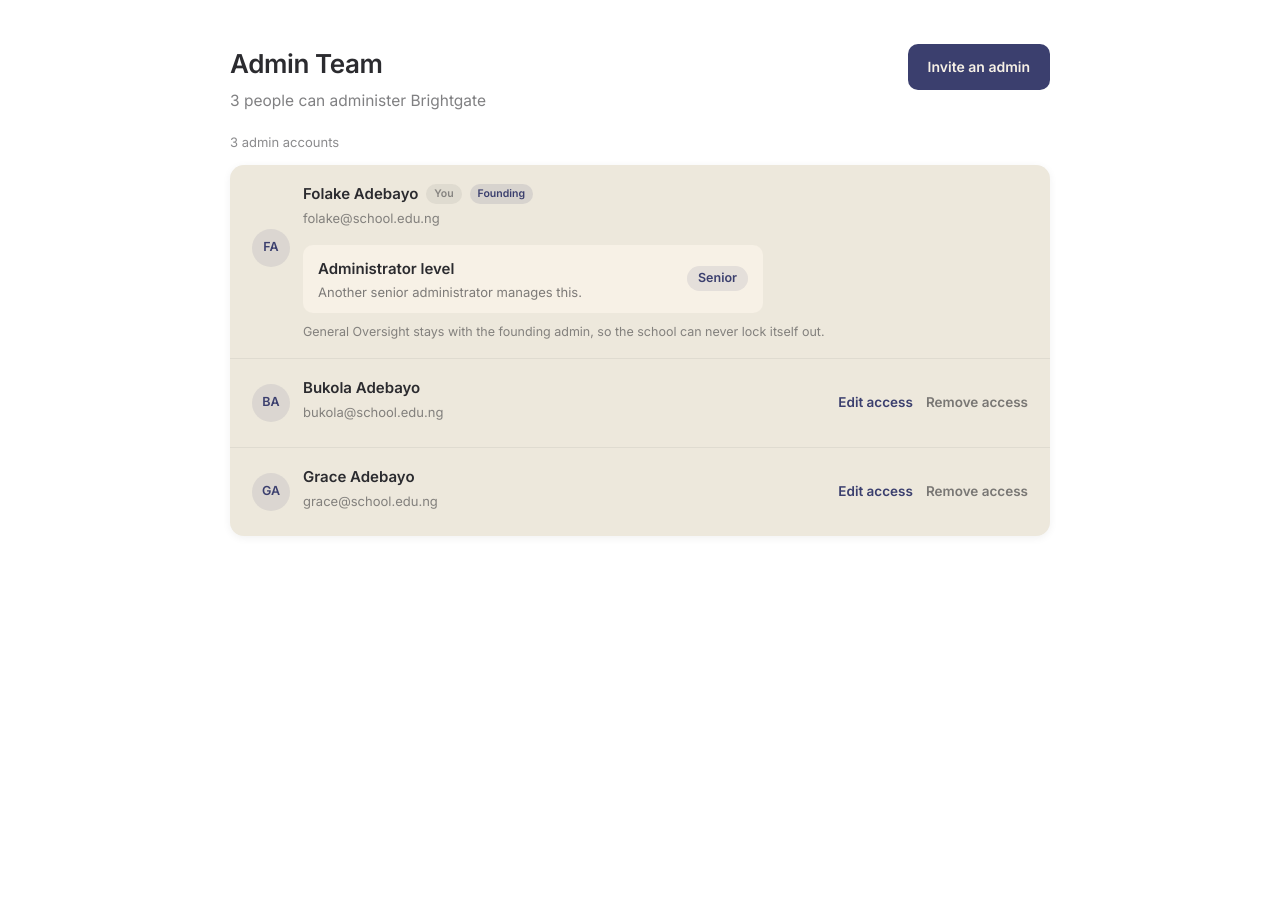
Test case: on someone else's record › meets the last senior calmly, and changes nothing
Click the button "Edit access" in the row of "grace@school.edu.ng" at (876, 492), box x1=838 y1=482 x2=913 y2=502
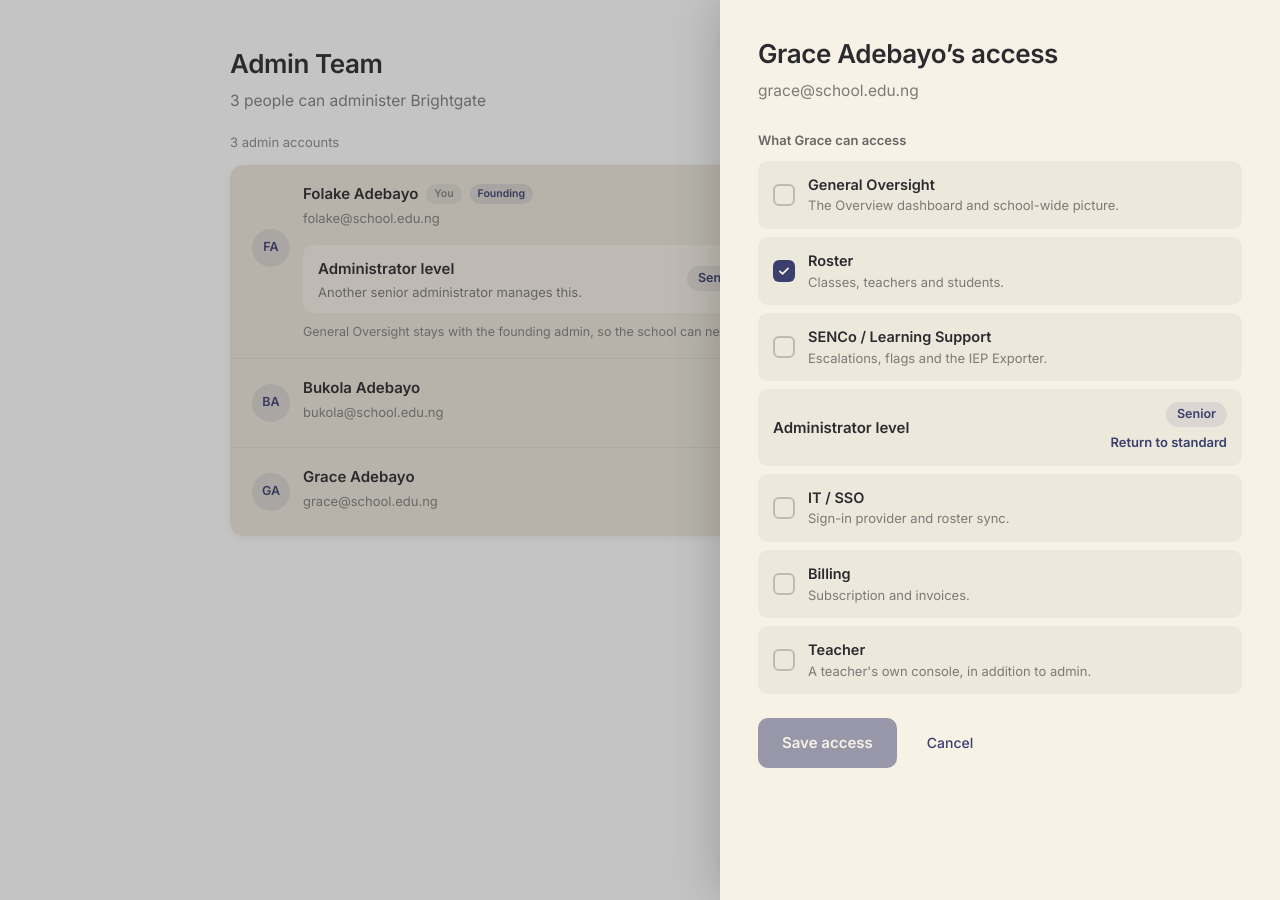
Click the button "Return to standard" at (1169, 443), box x1=1110 y1=433 x2=1227 y2=452
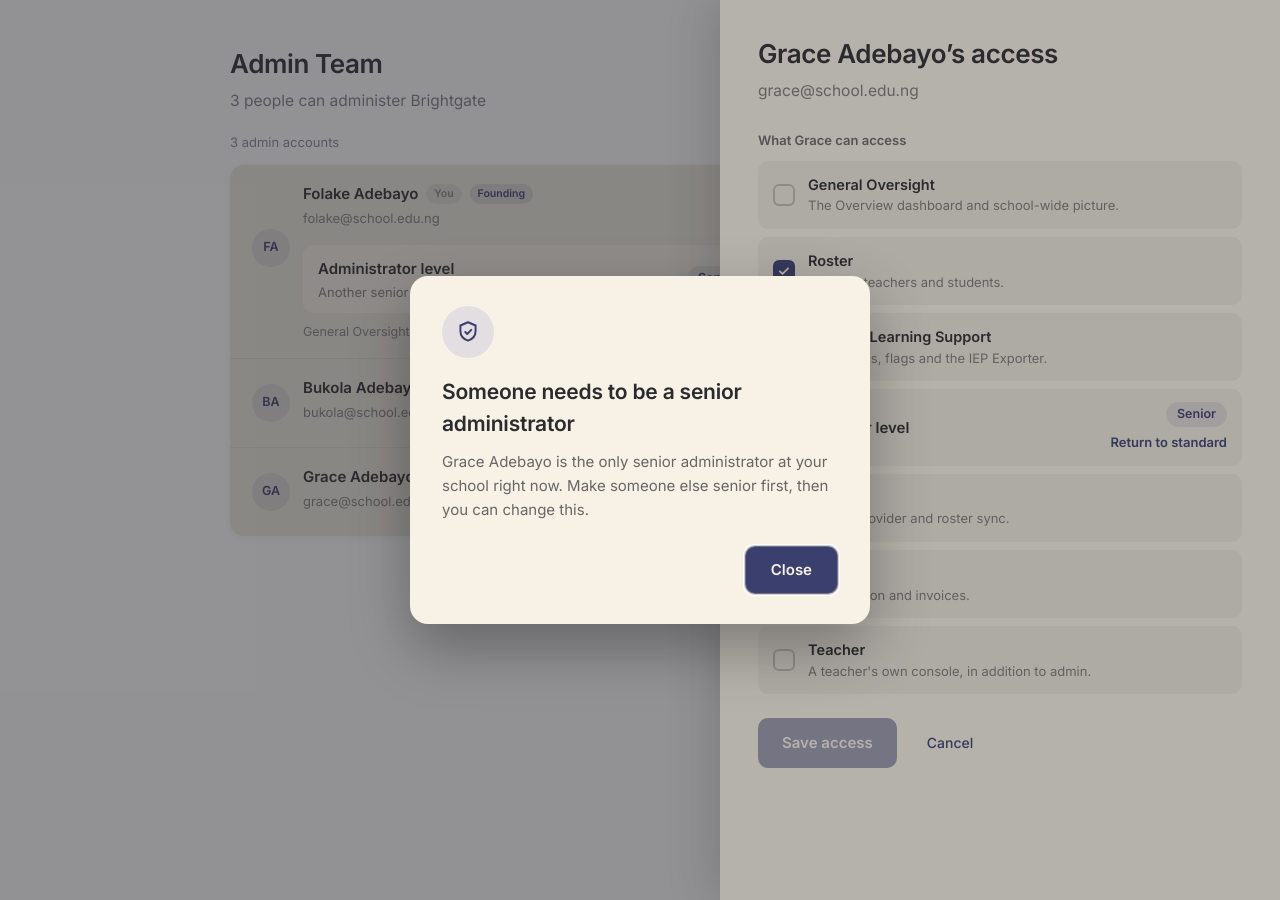
expect the dialog "Someone needs to be a senior administrator" shows "Grace Adebayo is the only senior administrator at your school right now. Make someone else senior first, then you can change this.": met, box x1=442 y1=452 x2=828 y2=519
Click the button "Close" at (791, 570), box x1=745 y1=546 x2=838 y2=594
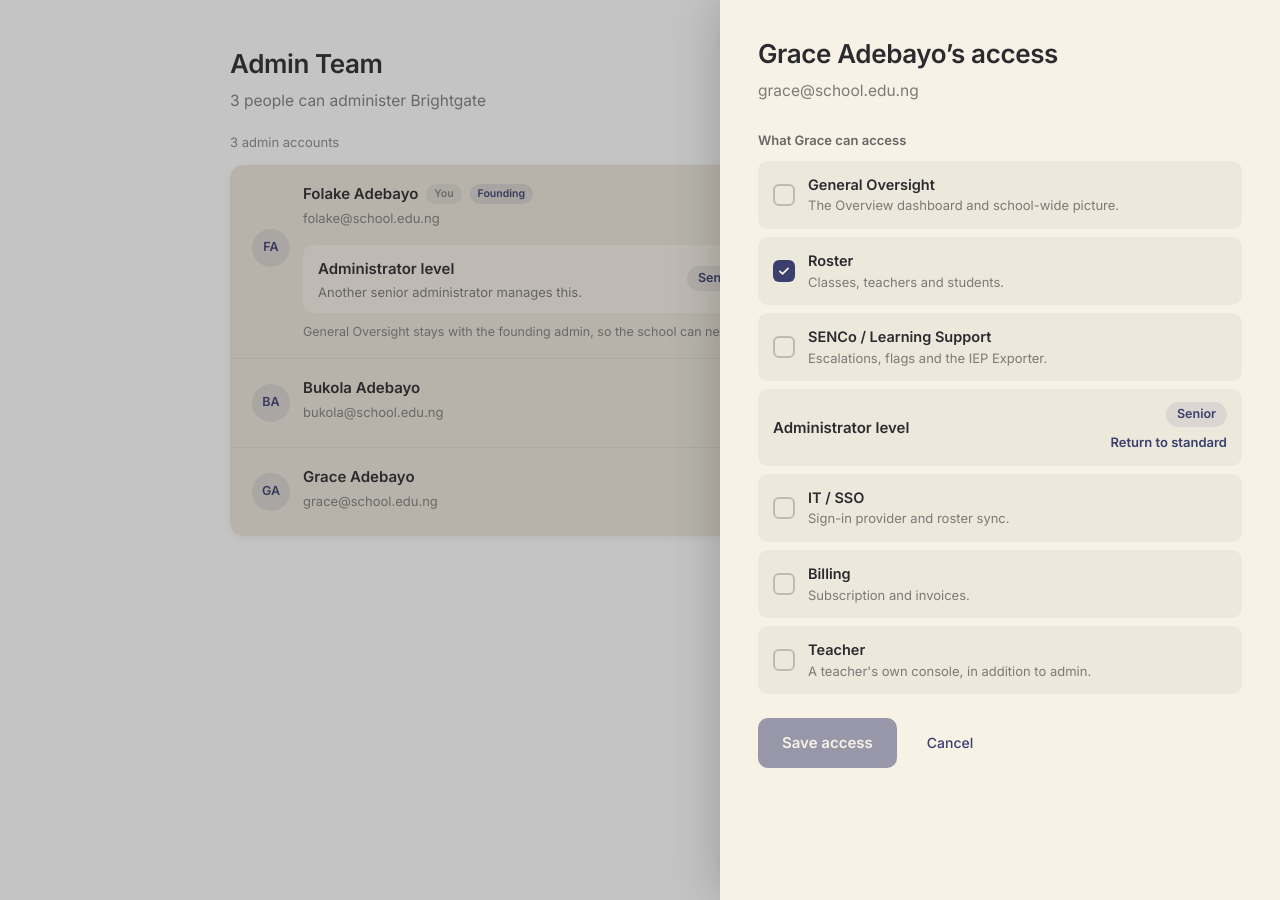
expect the heading "Someone needs to be a senior administrator" is gone: met
